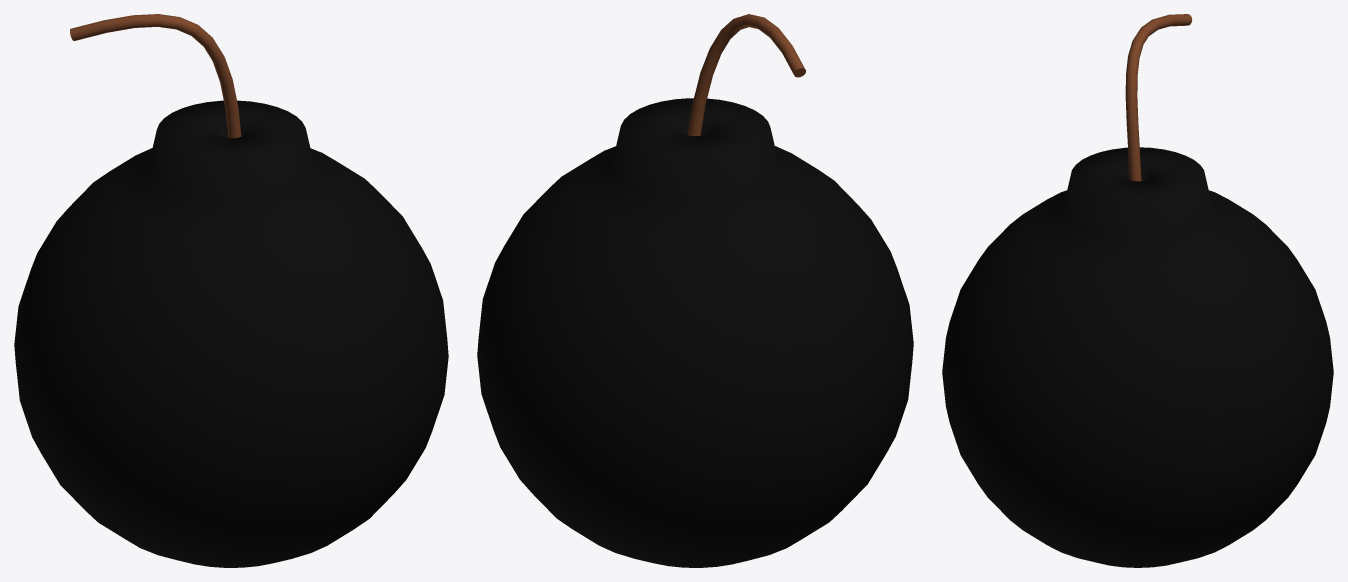
File: Bomb.fbx
3 views of the same model, side by side, from view 1: azimuth 30°, elevation 25°; view 2: azimuth 150°, elevation 25°; view 3: azimuth 270°, elevation 25° (orthographic). The views are drawn at different scales.
Parts seen in each view (by area): view 1: Sphere, BezierCurve; view 2: Sphere, BezierCurve; view 3: Sphere, BezierCurve.
Part boxes in pixels (box(x1,y1,x2,y2)): Sphere: box(14, 100, 448, 567); BezierCurve: box(70, 14, 241, 138); Sphere: box(477, 98, 913, 567); BezierCurve: box(687, 14, 805, 136); Sphere: box(942, 147, 1333, 567); BezierCurve: box(1125, 14, 1192, 181).
Bounding box in the file's own units: 200 × 277 × 200.
